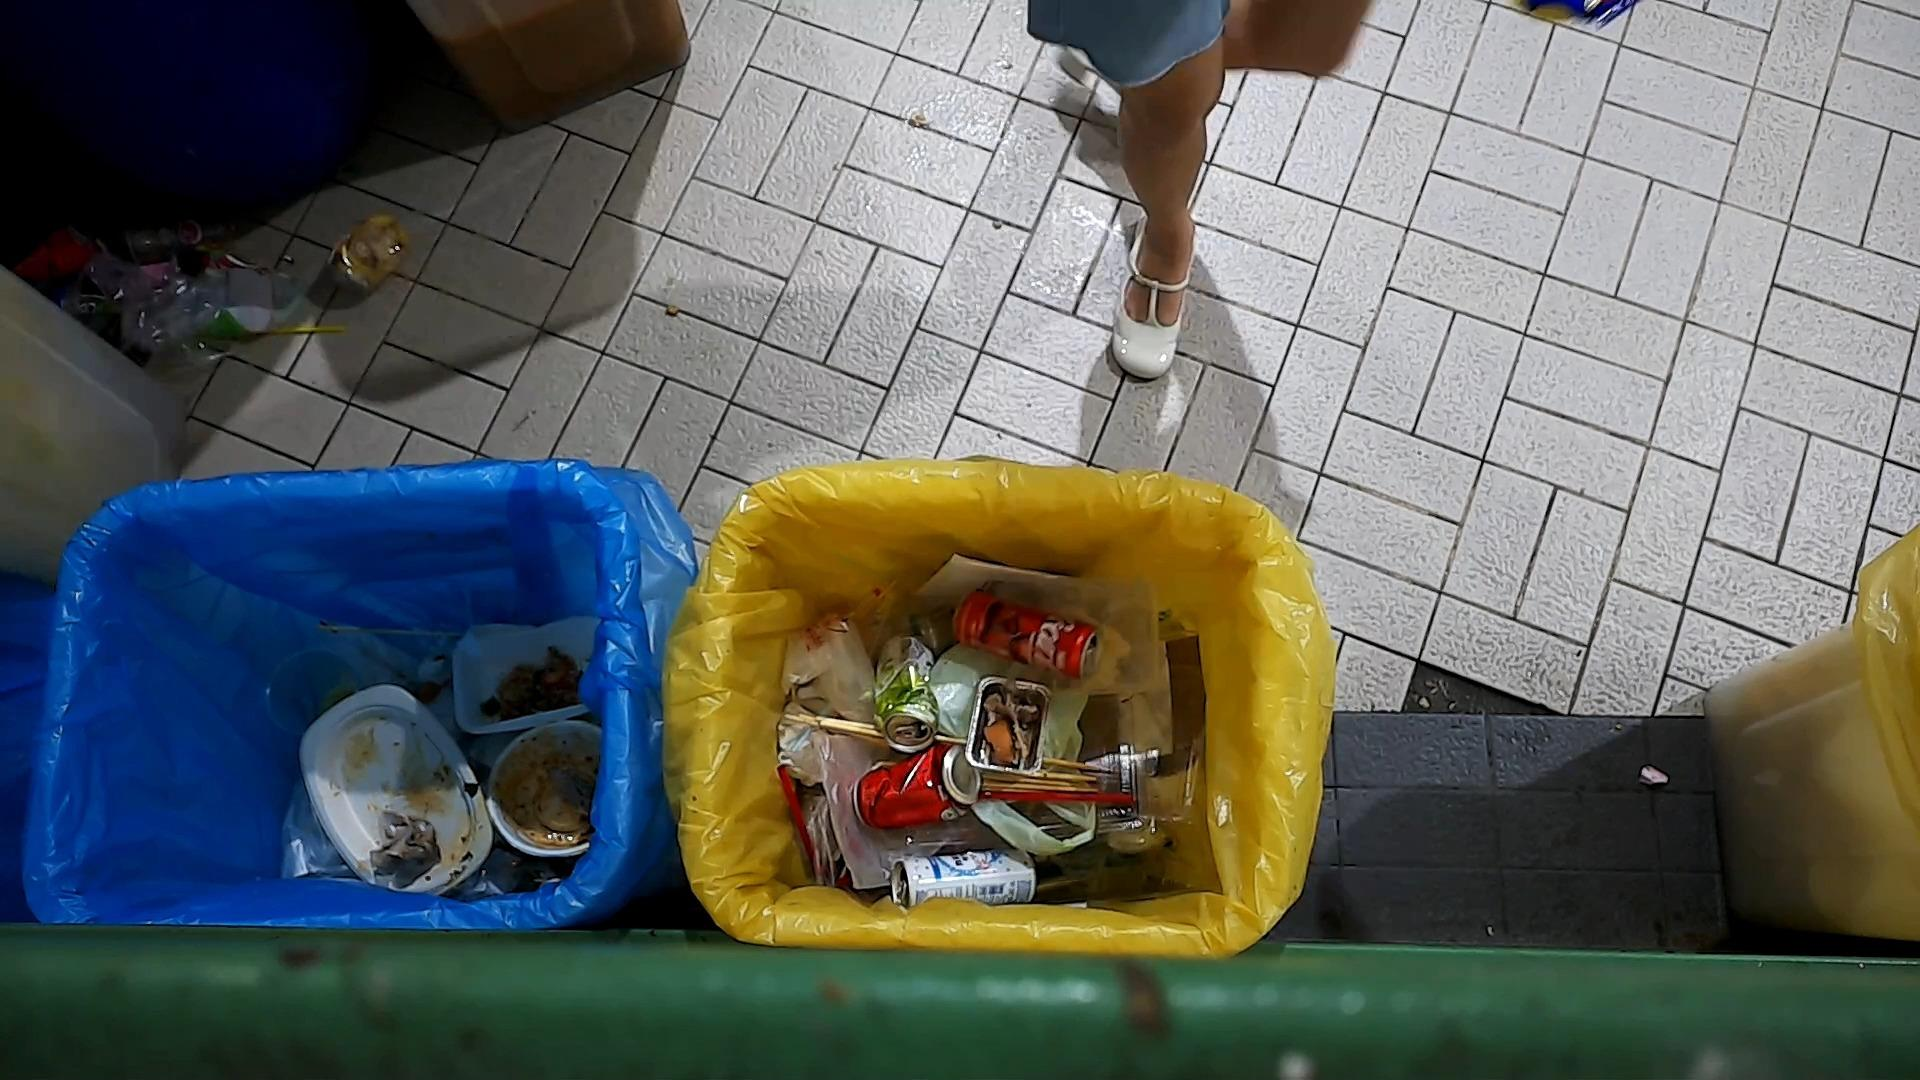can: (956, 585, 1106, 676), (852, 744, 984, 825), (889, 848, 1034, 909), (878, 629, 942, 750)
dirty food container: (301, 678, 487, 897), (481, 721, 608, 870), (447, 615, 597, 736), (965, 676, 1050, 774)
food container: (1073, 699, 1205, 841)
sticks: (786, 708, 1102, 782)
straw: (777, 764, 827, 878), (981, 791, 1146, 806)
